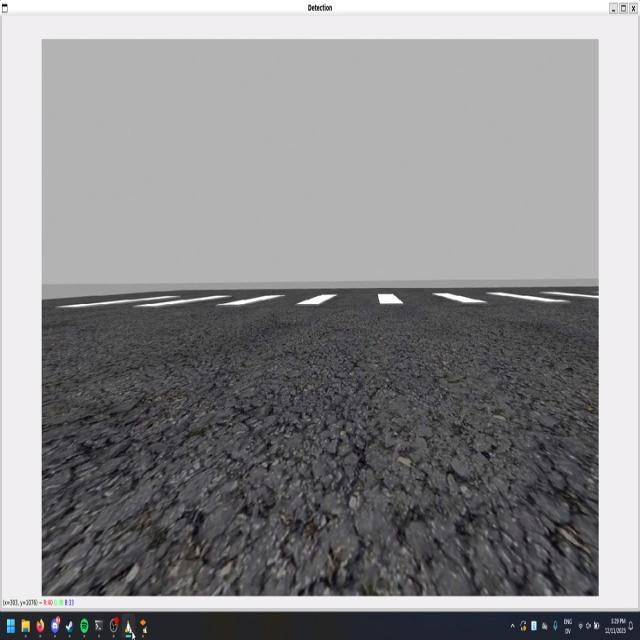crosswalk: (56, 292, 596, 307)
